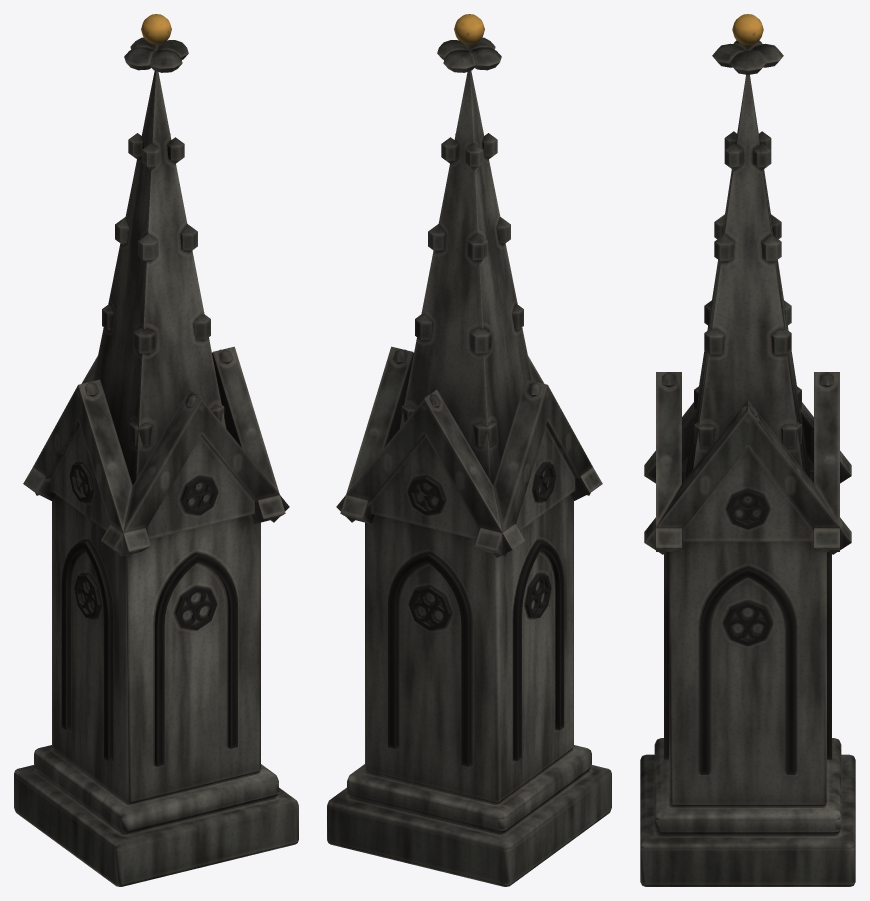
File: StonePinnacle.fbx
The picture shows the model from 3 angles, left to right: view 1: azimuth 30°, elevation 25°; view 2: azimuth 150°, elevation 25°; view 3: azimuth 270°, elevation 25°; orthographic projection.
Parts seen in each view (by area): view 1: StonePinnacle; view 2: StonePinnacle; view 3: StonePinnacle.
Part boxes in pixels (<box>): StonePinnacle: <box>14,14,298,886</box>; StonePinnacle: <box>327,14,611,886</box>; StonePinnacle: <box>640,14,855,886</box>.
Size of the model in its own units: 150 by 636 by 150.
